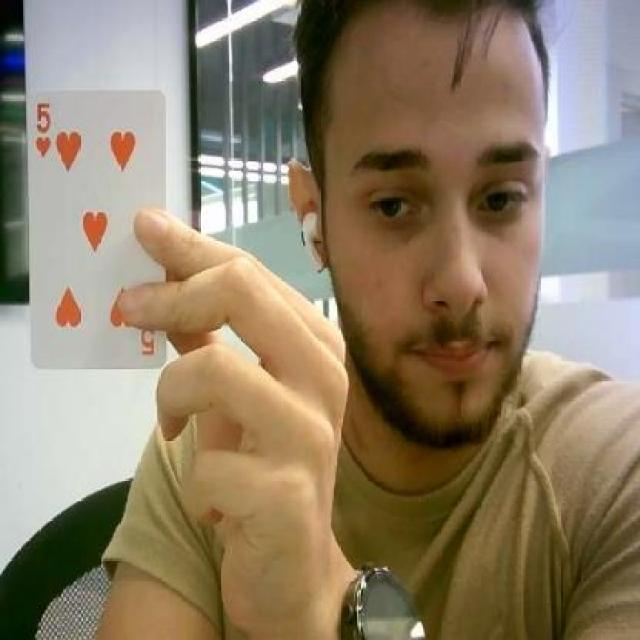5H: (32, 96, 52, 155)
